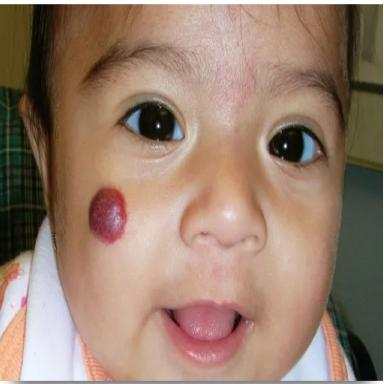Hemangiome: (89, 185, 127, 243)
